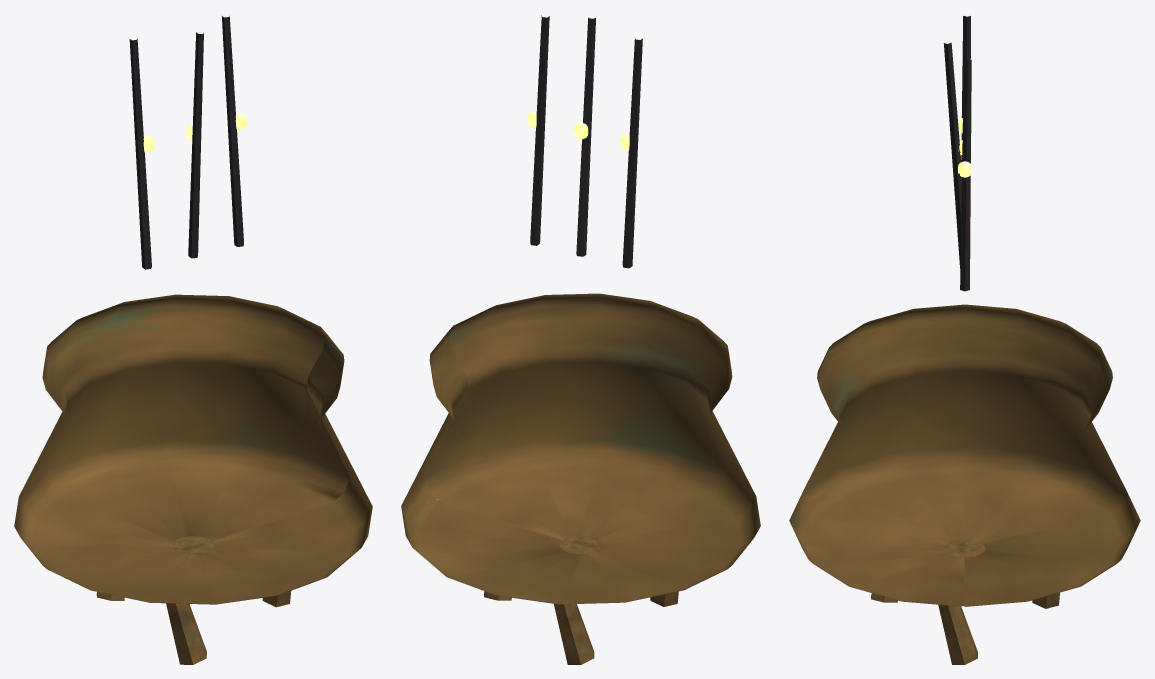
Rendered from incense_burner.glb.
3 views of the same model, side by side, from view 1: azimuth 30°, elevation 25°; view 2: azimuth 150°, elevation 25°; view 3: azimuth 270°, elevation 25° (orthographic). The views are drawn at different scales.
Parts seen in each view (by area): view 1: Bowl, IncenseL, IncenseR, IncenseMid, Leg1; view 2: Bowl, IncenseMid, IncenseR, IncenseL, Leg2; view 3: Bowl, IncenseR, IncenseMid, Leg0.
Part boxes in pixels (box(x1,y1,x2,y2)): Bowl: box(14, 294, 372, 604); IncenseL: box(129, 38, 151, 269); IncenseR: box(222, 16, 243, 246); IncenseMid: box(188, 32, 203, 258); Leg1: box(166, 603, 206, 664); Bowl: box(401, 293, 760, 604); IncenseMid: box(576, 17, 595, 256); IncenseR: box(530, 15, 549, 245); IncenseL: box(622, 38, 642, 268); Leg2: box(554, 604, 594, 664); Bowl: box(789, 304, 1140, 606); IncenseR: box(960, 59, 971, 291); IncenseMid: box(943, 42, 961, 268); Leg0: box(938, 604, 977, 664).
Size of the model in its own units: 0.34 by 0.6182 by 0.34.
Materials: 3 (2 with a texture image).
